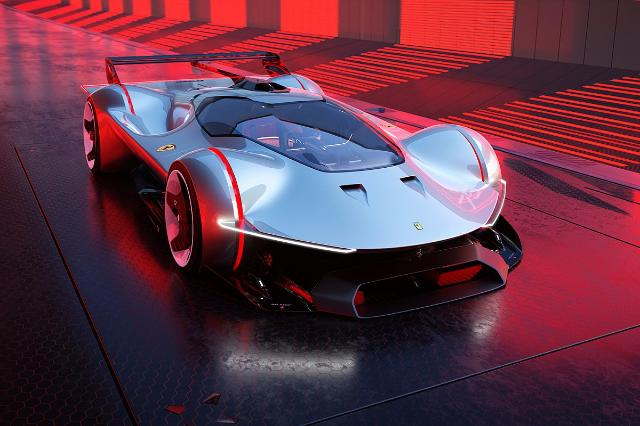ferrari: (82, 50, 524, 320)
